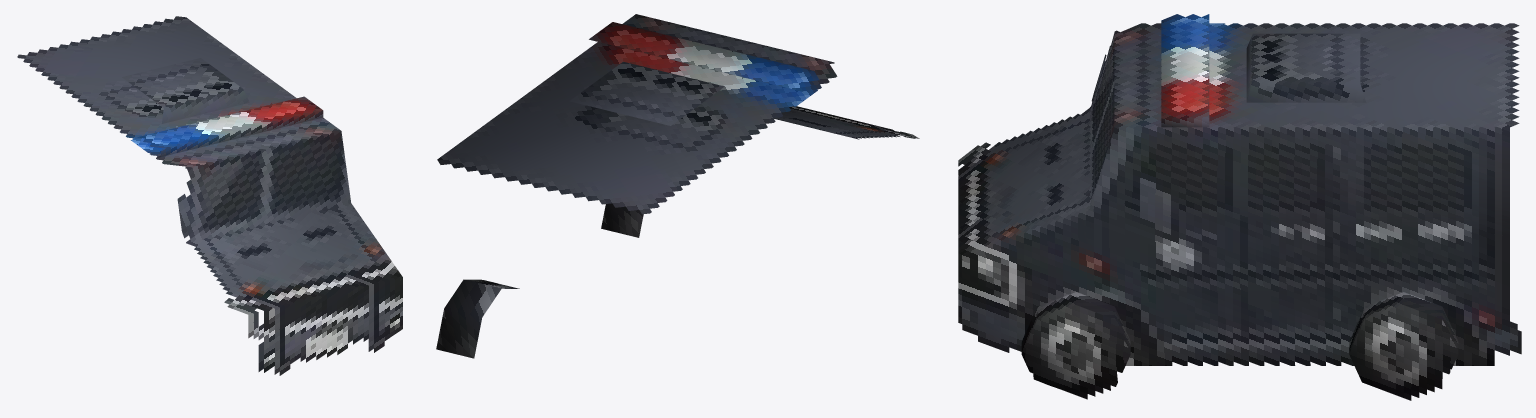
File: InteractiveTrigger_mission91222.glb
3 views of the same model, side by side, from view 1: azimuth 30°, elevation 25°; view 2: azimuth 150°, elevation 25°; view 3: azimuth 270°, elevation 25° (orthographic). The views are drawn at different scales.
Visible parts, largest first — view 1: 25DBG_Interaction_Car_9_B_1; view 2: 25DBG_Interaction_Car_9_B_1; view 3: 25DBG_Interaction_Car_9_B_1.
Boxes of the visible parts, x1,y1,x2,y2 form: 25DBG_Interaction_Car_9_B_1: (17,16,402,375); 25DBG_Interaction_Car_9_B_1: (436,14,919,358); 25DBG_Interaction_Car_9_B_1: (958,14,1521,400).
Bounding box in the file's own units: 1.3 × 1.44 × 2.63.
Materials: 1 (1 with a texture image).
